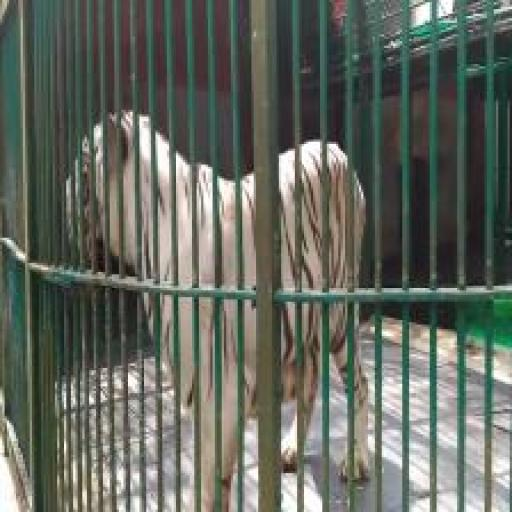Tiger: (64, 59, 371, 488)
